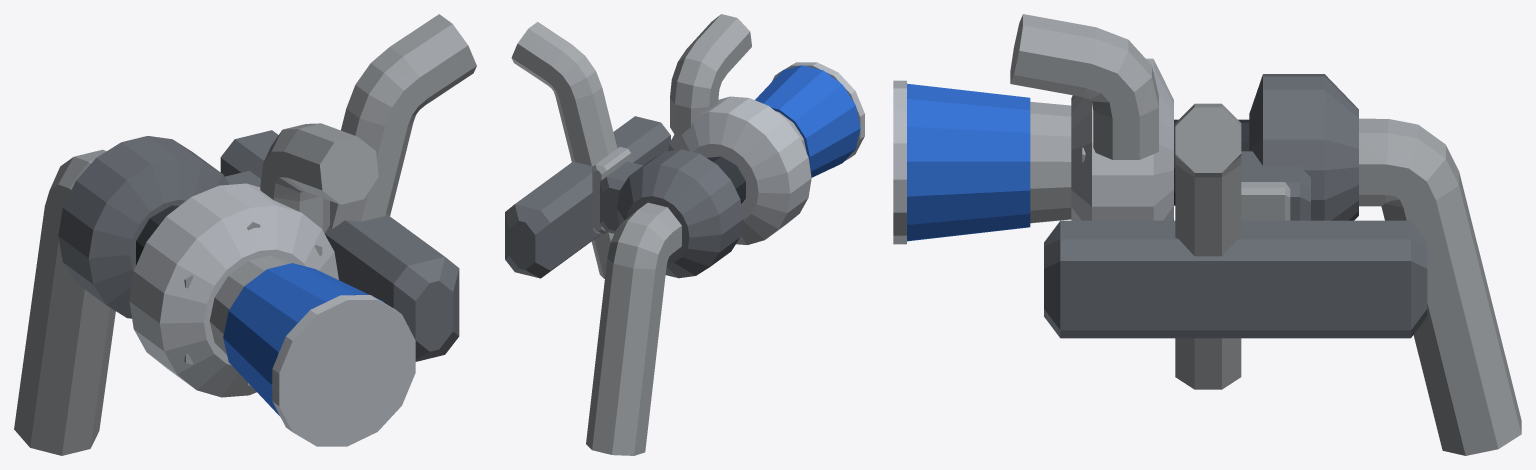
The model's file is ridgeback_4x4.glb.
The picture shows the model from 3 angles, left to right: view 1: azimuth 30°, elevation 25°; view 2: azimuth 150°, elevation 25°; view 3: azimuth 270°, elevation 25°; orthographic projection. The views are drawn at different scales.
Visible parts, largest first — view 1: model; view 2: model; view 3: model.
Boxes of the visible parts, <box> form: model: <box>14,14,476,455</box>; model: <box>505,14,864,455</box>; model: <box>893,14,1521,455</box>.
Size of the model in its own units: 0.3113 by 0.3723 by 0.4588.
2 materials, 1 textured.
